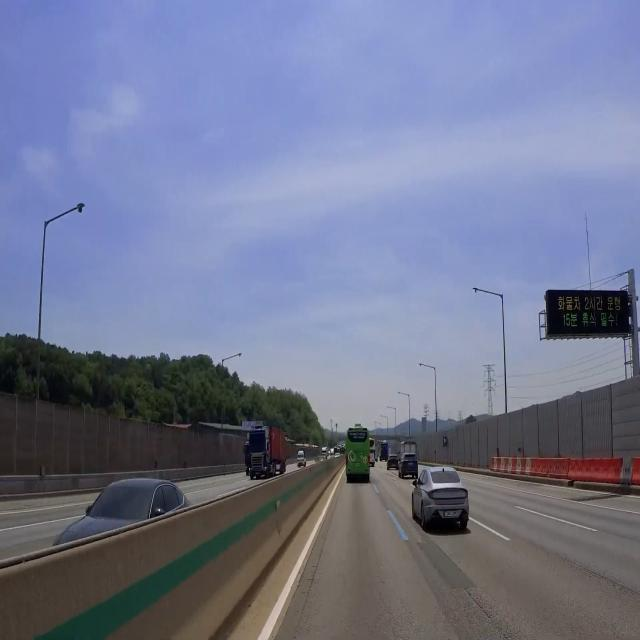car: (440, 505, 461, 525), (352, 458, 364, 476), (406, 462, 416, 471)
